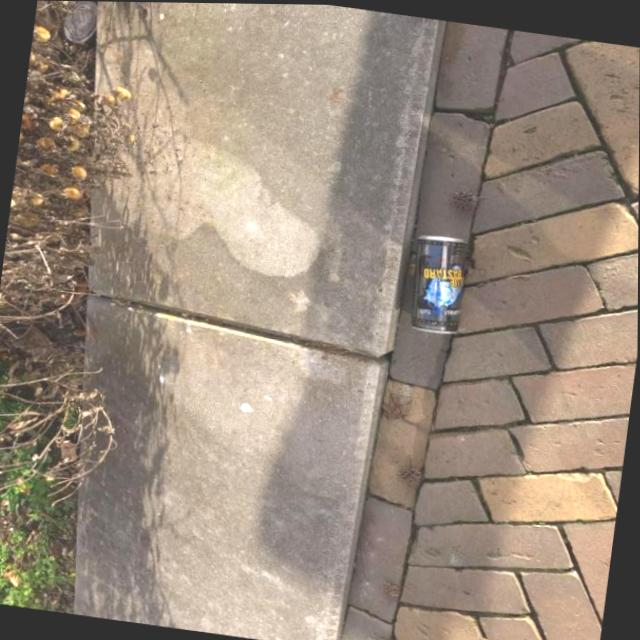Can-Metal: (403, 227, 471, 336)
Paper: (59, 1, 100, 44)
